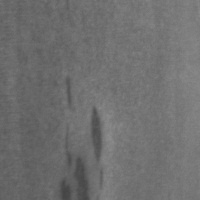inclusion: (59, 93, 106, 200), (87, 101, 108, 166), (60, 74, 81, 116)
